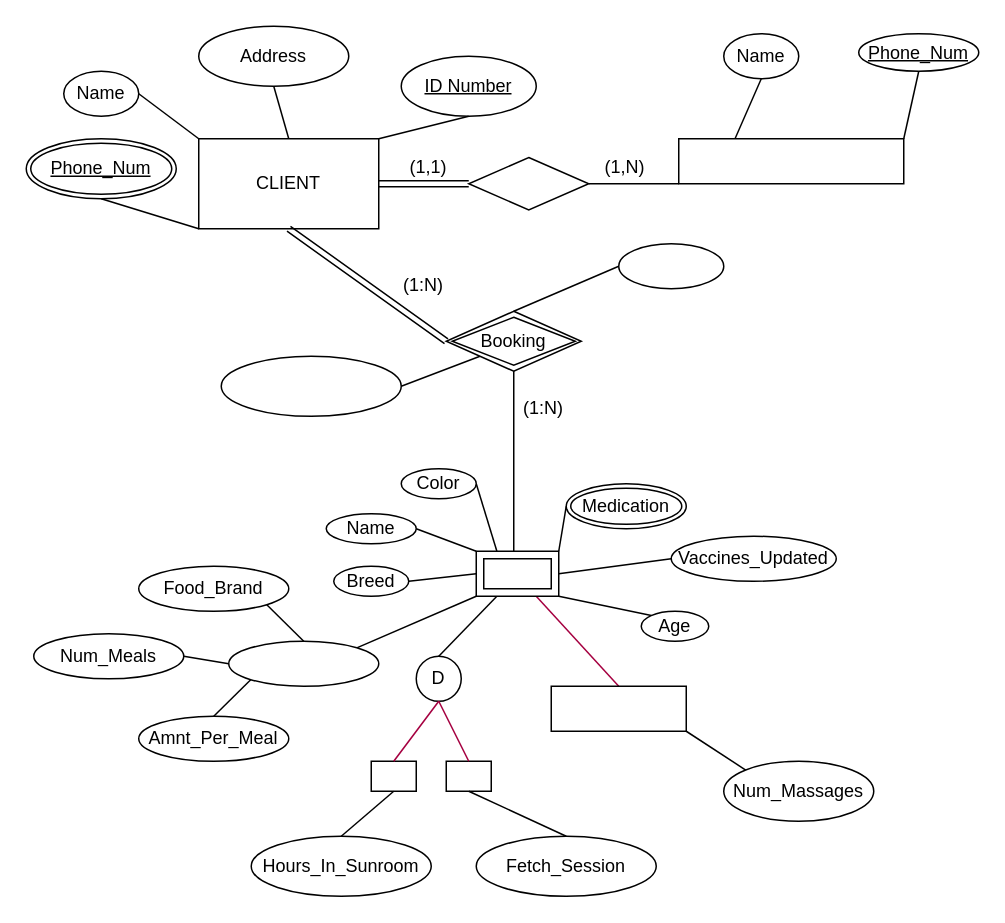
Some shapes in this 1005 by 923 pixel diagram are drawn without their labels. Here are the shapes that lost their labels. From the top down, the centre of each, then its label:
At (x=790, y=160): "EMERGENCY_CONTACT".
At (x=528, y=183): "Listed".
At (x=670, y=265): "Vet Name".
At (x=310, y=385): "Credit_Card_Num".
At (x=517, y=573): "PET".
At (x=303, y=663): "Eating_Habits".
At (x=618, y=708): "SENIOR_PET".
At (x=393, y=775): "CAT".
At (x=468, y=775): "DOG".
